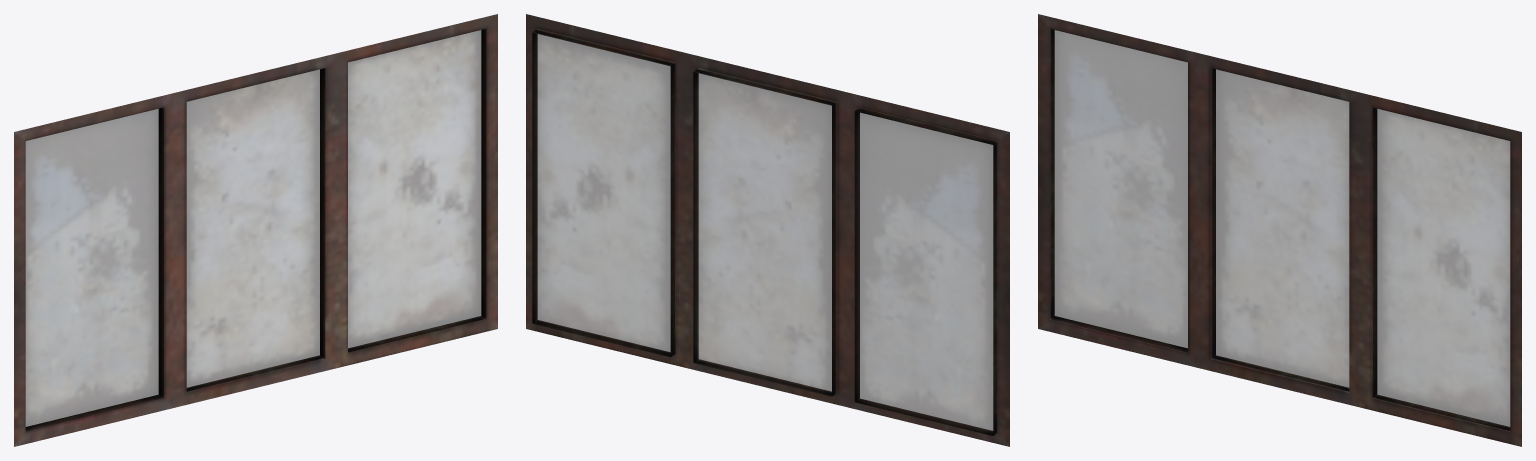
File: T_Window_03.FBX
3 renders of one model, left to right at view 1: azimuth 30°, elevation 25°; view 2: azimuth 150°, elevation 25°; view 3: azimuth 330°, elevation 25°, orthographic.
Visible parts, largest first — view 1: T_Window_03; view 2: T_Window_03; view 3: T_Window_03.
Boxes of the visible parts, left/top/right/bottom form: T_Window_03: left=14, top=14, right=497, bottom=446; T_Window_03: left=526, top=14, right=1009, bottom=446; T_Window_03: left=1038, top=14, right=1521, bottom=446.
Size of the model in its own units: 264 by 164 by 5.
